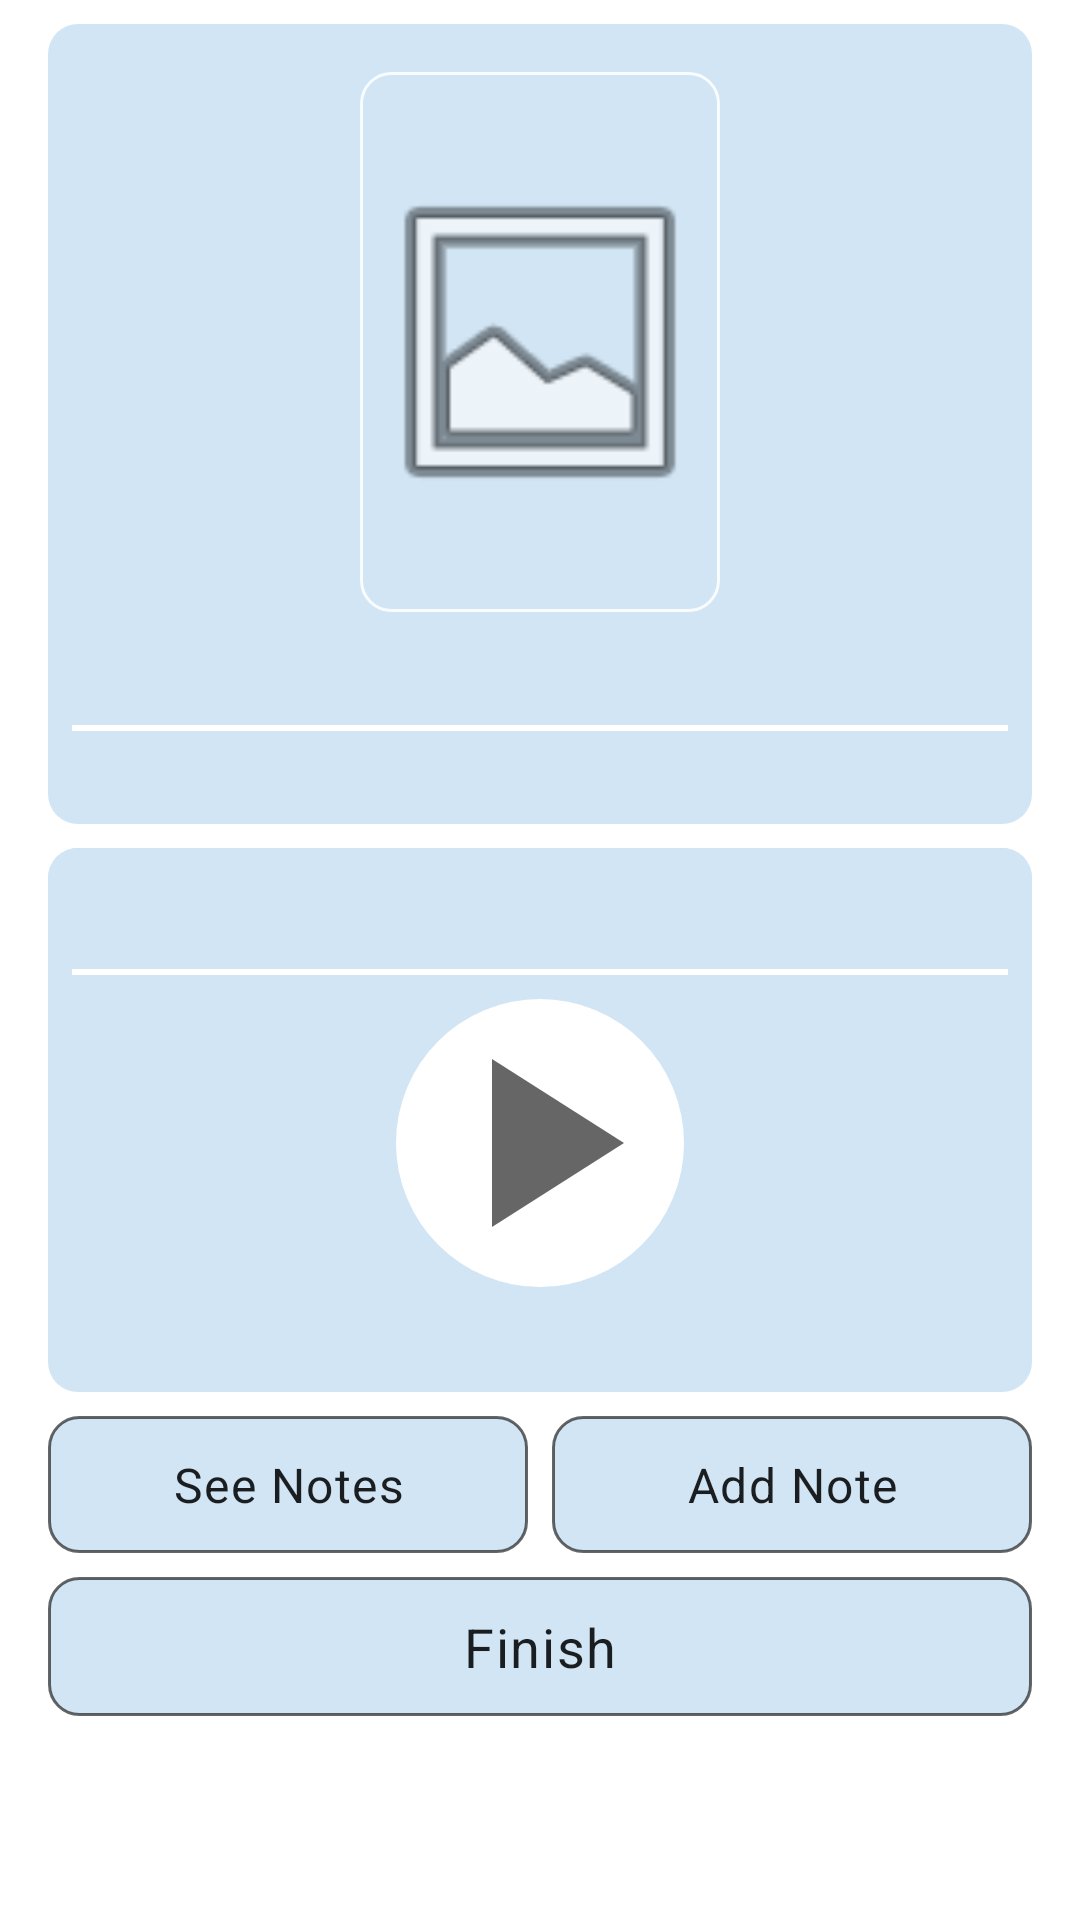

Where icons sit on this 1080w x 1920h app screen, as region(x1, y1, x2, y2):
record start: region(396, 999, 684, 1287)
